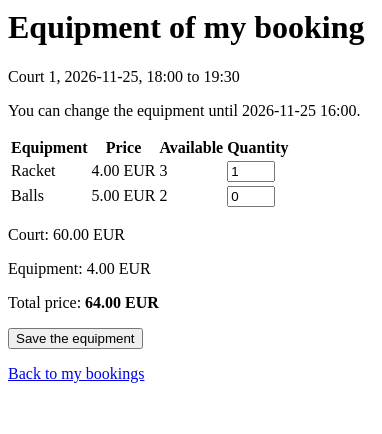
Test: Equipment of my booking page › shows the message of the API when the change is refused
Replace the text in the number field named "Balls quantity" with "3". click: (251, 196)
box: [227,186,275,207]
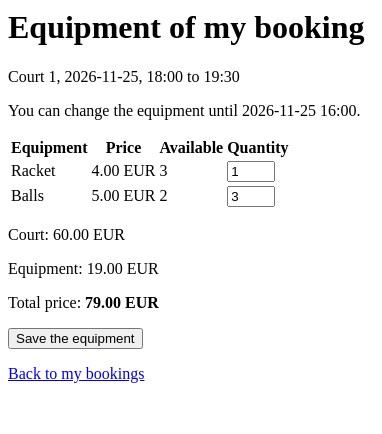
Click the button "Save the equipment". click: (75, 338)
box: [8,328,143,349]
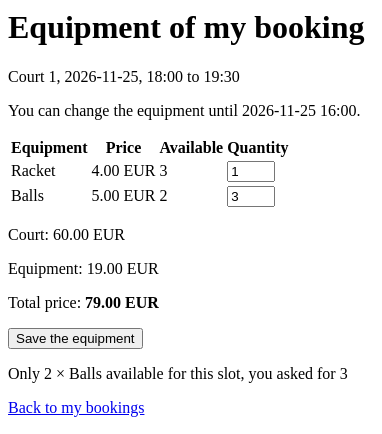
expect the message reads "Only 2 × Balls available for this slot, you asked for 3": met, box [8,365,348,382]
